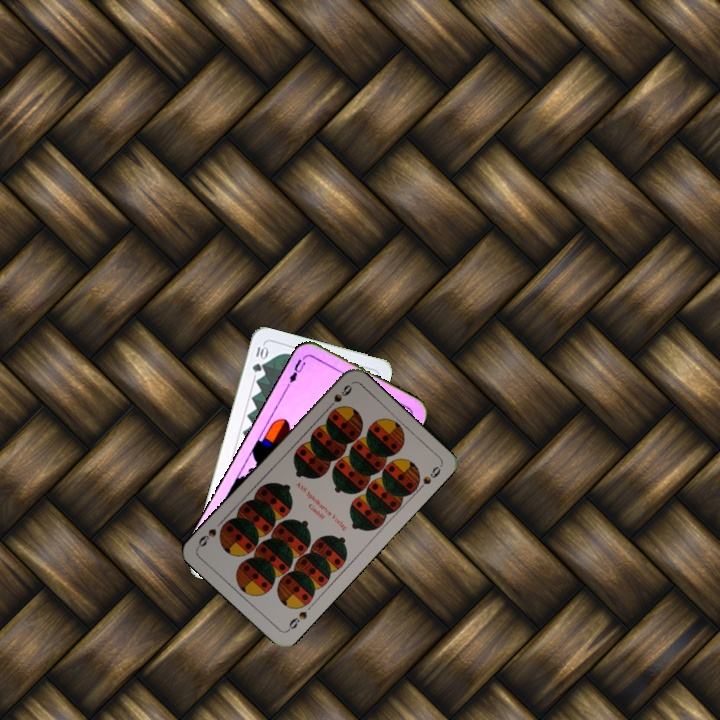EU: (285, 352, 309, 385)
G10: (248, 341, 269, 375)
S9: (322, 380, 355, 413), (283, 607, 310, 634)
